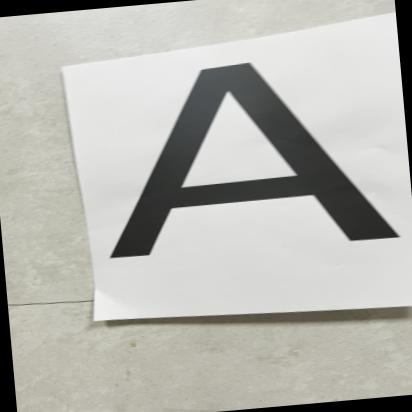seat: (90, 49, 412, 327)
